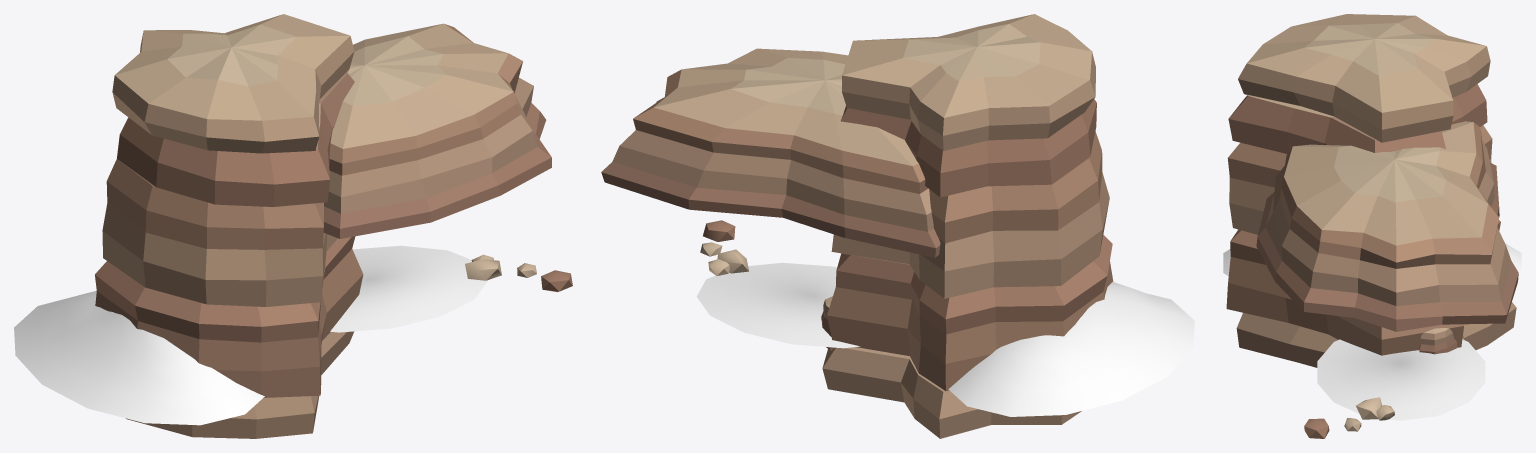
The model's file is roca_cobijo.glb.
3 views of the same model, side by side, from view 1: azimuth 30°, elevation 25°; view 2: azimuth 150°, elevation 25°; view 3: azimuth 270°, elevation 25° (orthographic). The views are drawn at different scales.
Parts seen in each view (by area): view 1: roca_cobijo, roca_cobijo_techo, roca_cobijo_arena; view 2: roca_cobijo, roca_cobijo_techo, roca_cobijo_arena; view 3: roca_cobijo, roca_cobijo_techo, roca_cobijo_arena.
Boxes of the visible parts, x1,y1,x2,y2 form: roca_cobijo: [95, 14, 572, 438]; roca_cobijo_techo: [323, 23, 551, 238]; roca_cobijo_arena: [14, 245, 487, 425]; roca_cobijo: [700, 14, 1113, 438]; roca_cobijo_techo: [601, 48, 940, 257]; roca_cobijo_arena: [696, 262, 1194, 416]; roca_cobijo: [1226, 14, 1516, 438]; roca_cobijo_techo: [1256, 121, 1518, 331]; roca_cobijo_arena: [1223, 243, 1521, 420].
Size of the model in its own units: 11.44 by 7.04 by 6.24.
